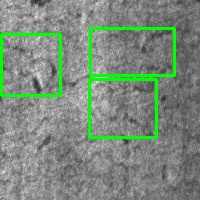crazing: (90, 28, 174, 75), (89, 79, 156, 137), (1, 34, 60, 95)
